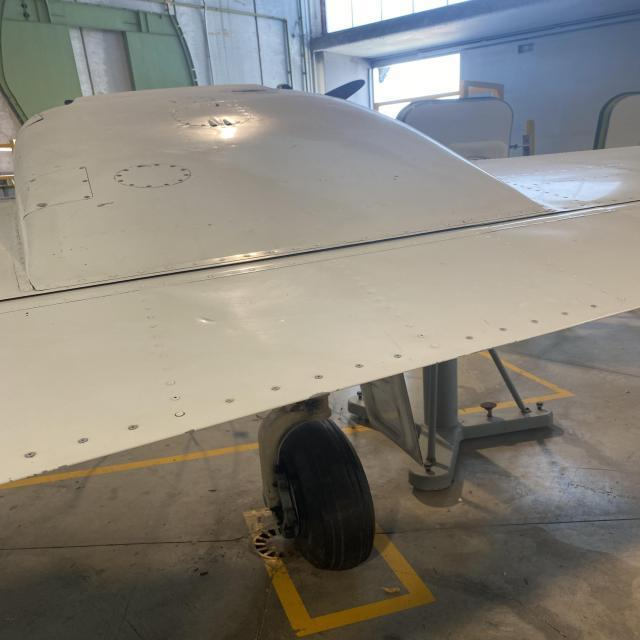Dent: (188, 310, 226, 328)
